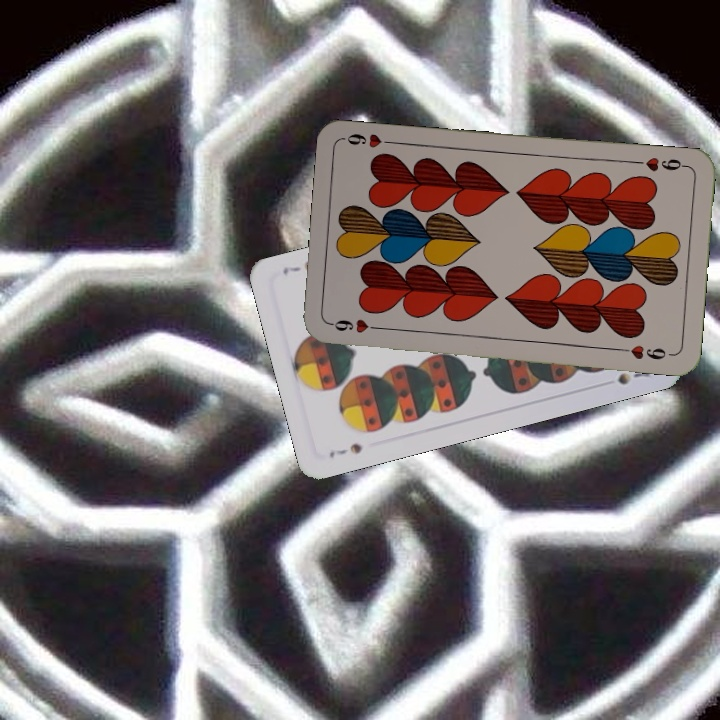H9: (631, 153, 690, 174), (327, 315, 386, 336)
S7: (325, 439, 365, 461)
